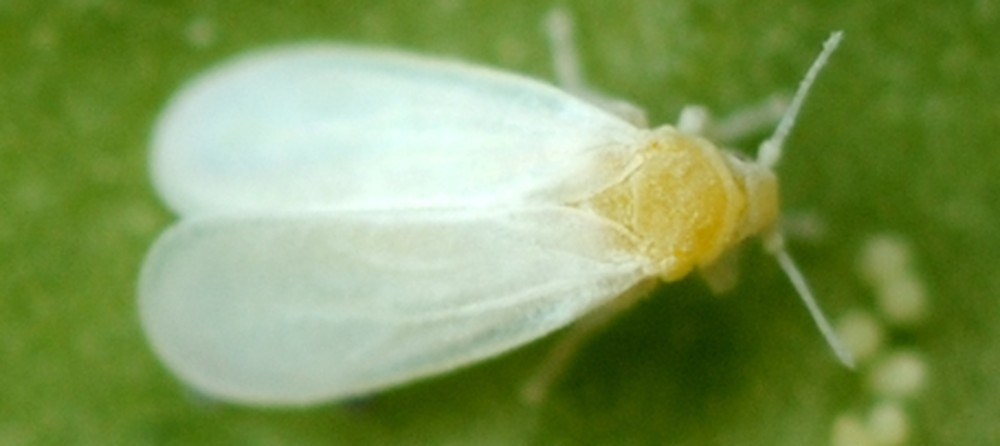Mosca Blanca: (134, 25, 889, 420)
